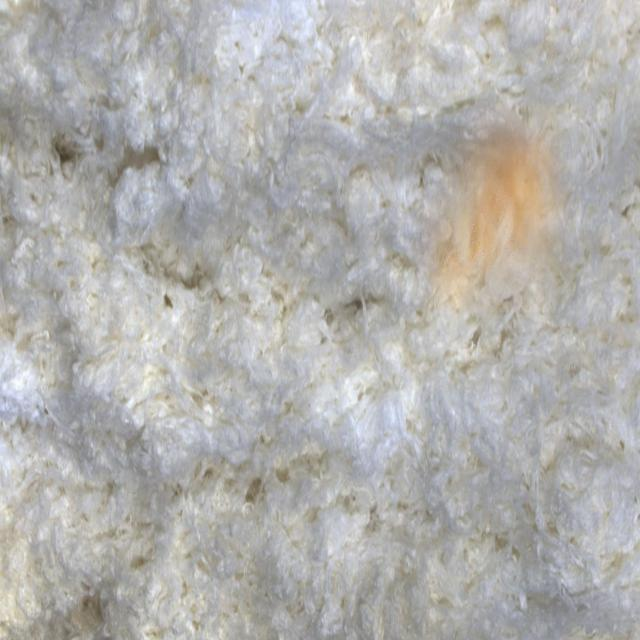dust: (411, 103, 583, 312)
